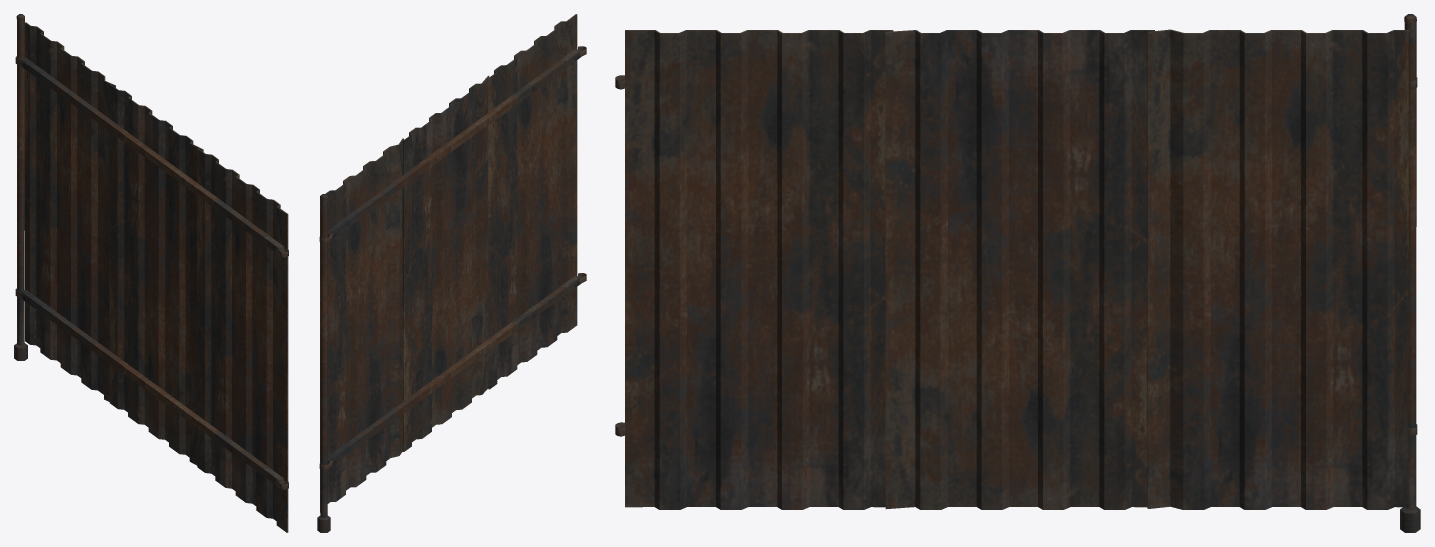
The model's file is RustedFence_A_B.fbx.
3 renders of one model, left to right at view 1: azimuth 30°, elevation 25°; view 2: azimuth 150°, elevation 25°; view 3: azimuth 270°, elevation 25°, orthographic. The views are drawn at different scales.
Visible parts, largest first — view 1: RustedFence_A_B; view 2: RustedFence_A_B; view 3: RustedFence_A_B.
Boxes of the visible parts, bbox=[...] form: RustedFence_A_B: bbox=[14, 14, 288, 532]; RustedFence_A_B: bbox=[317, 14, 586, 532]; RustedFence_A_B: bbox=[615, 14, 1420, 532].
Size of the model in its own units: 9.05 by 216 by 306.
